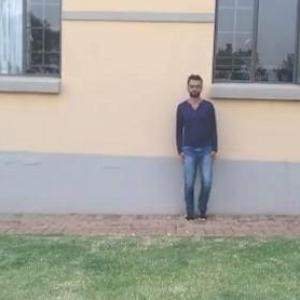follow: (176, 72, 220, 222)
